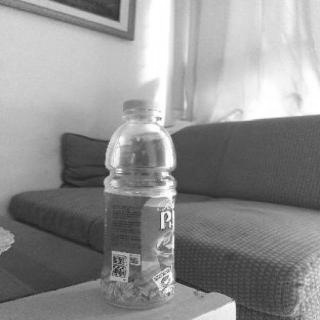plastic_bottles: (98, 96, 180, 310)
